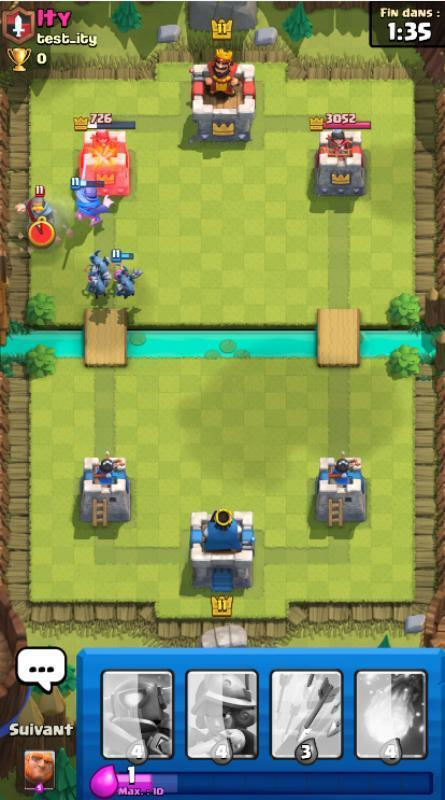enemy_knight: (15, 180, 61, 248)
player_knight: (66, 177, 116, 225)
player_minions: (110, 258, 142, 297), (84, 250, 113, 279), (81, 273, 110, 302)
